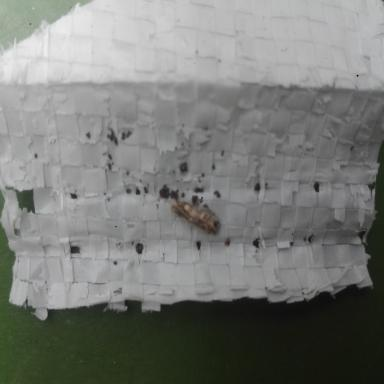pbw: (171, 198, 220, 237)
